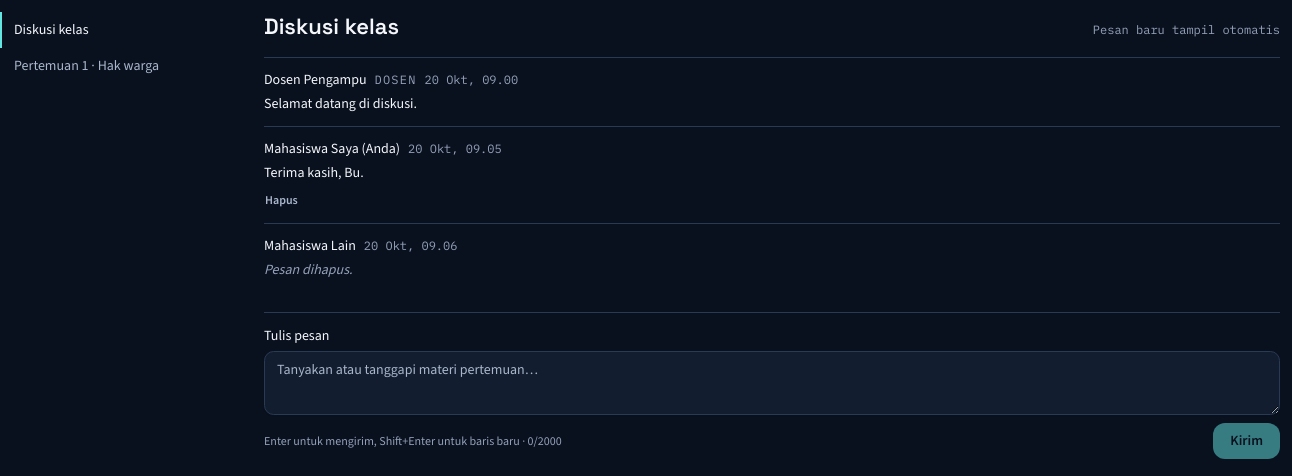
Test case: ClassDiscussion › meminta konfirmasi sebelum menghapus
Click the button "Hapus" at (281, 200), box [264,191,299,209]
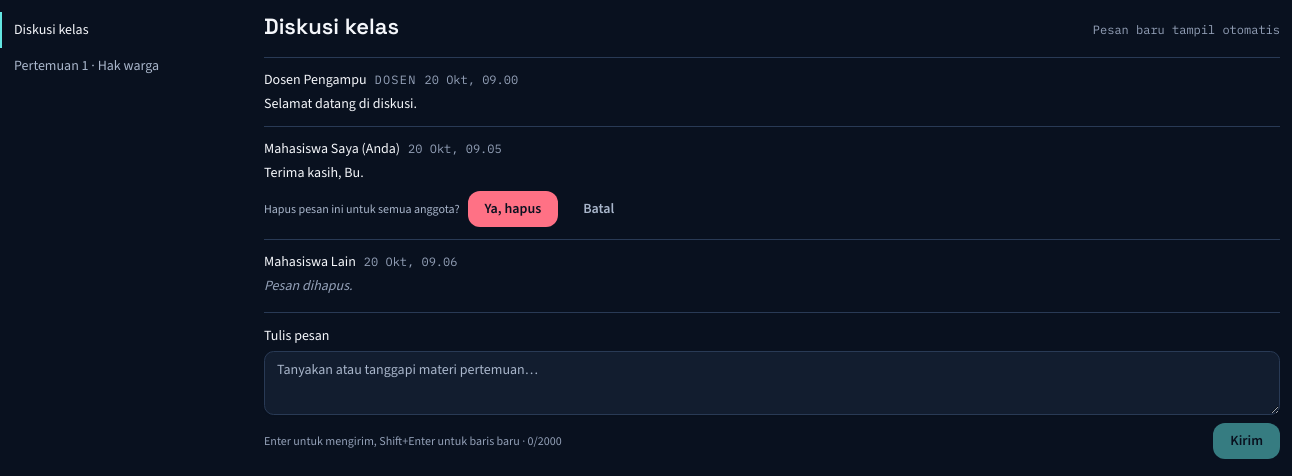
Click the button "Ya, hapus" at (513, 209), box [468,191,558,227]
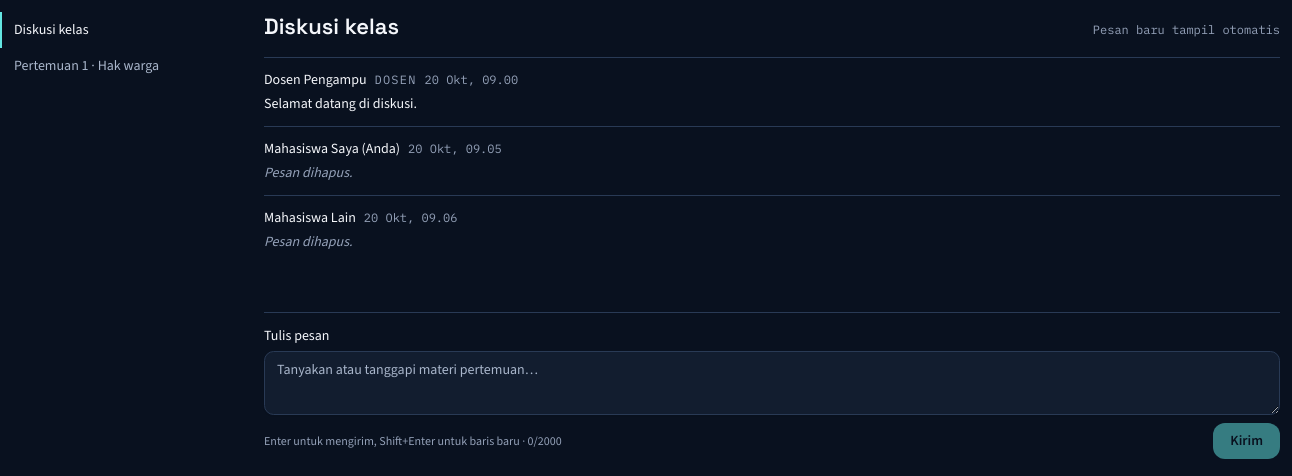
Expected: the text "Terima kasih, Bu." is gone
